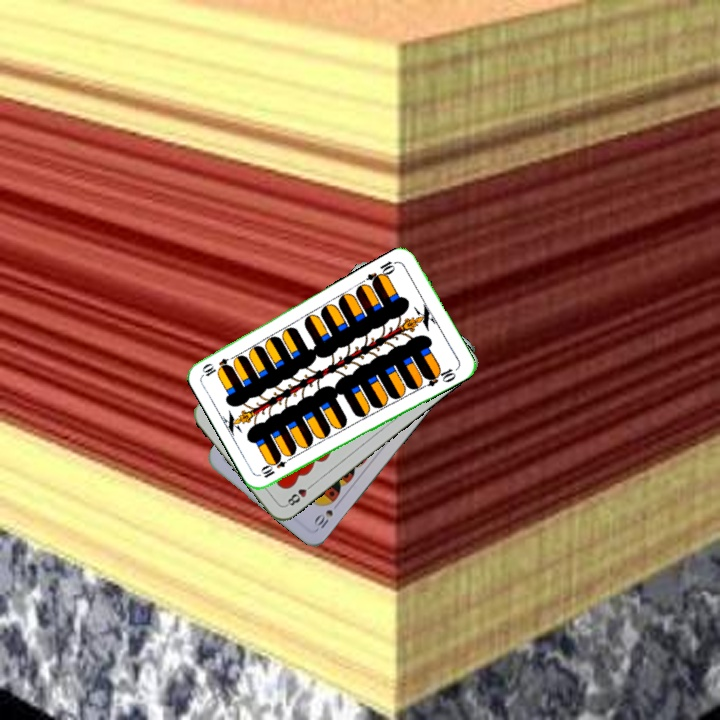E10: (363, 257, 401, 288), (257, 451, 295, 481)
H8: (282, 479, 316, 509)
S10: (310, 505, 336, 531)
